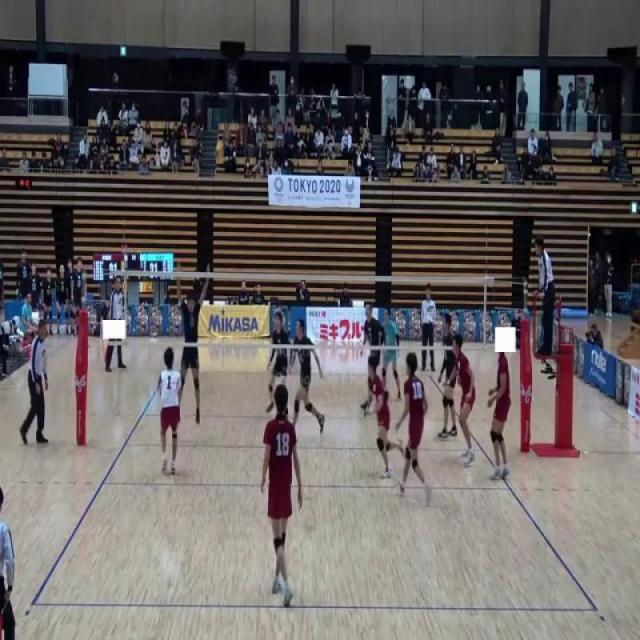volleyball: (215, 145, 223, 158)
